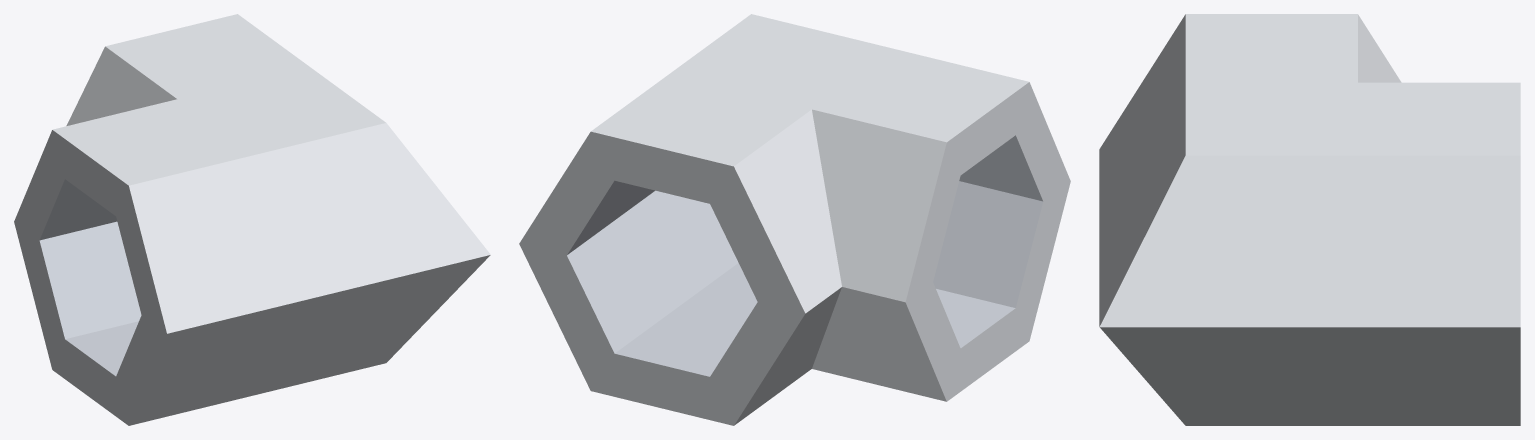
Rendered from pipe_corner.glb.
3 renders of one model, left to right at view 1: azimuth 30°, elevation 25°; view 2: azimuth 150°, elevation 25°; view 3: azimuth 270°, elevation 25°, orthographic. The views are drawn at different scales.
Visible parts, largest first — view 1: pipe_corner; view 2: pipe_corner; view 3: pipe_corner.
Boxes of the visible parts, x1=… form: pipe_corner: x1=14, y1=14, x2=490, y2=425; pipe_corner: x1=519, y1=14, x2=1070, y2=425; pipe_corner: x1=1099, y1=14, x2=1520, y2=425.
Size of the model in its own units: 0.8464 by 0.6 by 0.8464.
Materials: 1 (1 with a texture image).
